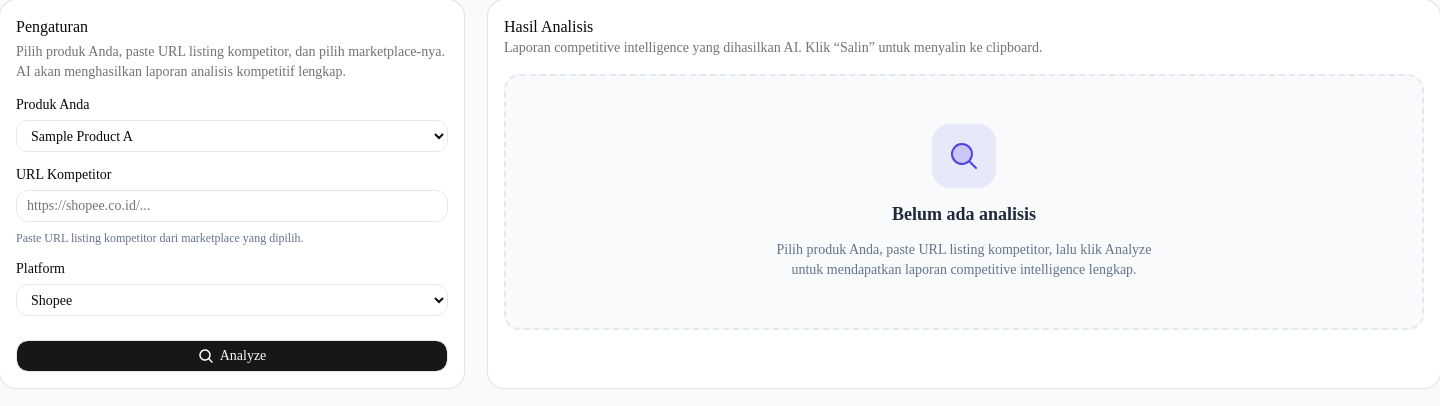
it: CompetitorAnalyzer › shows error message + retry button in the result panel when analyzeCompetitor returns an error
Fill in URL and submit
Type "https://shopee.co.id/broken-link" into the field with test id "competitor-url".
click(232, 206); type("https://shopee.co.id/broken-link")  # box [16,190,448,222]
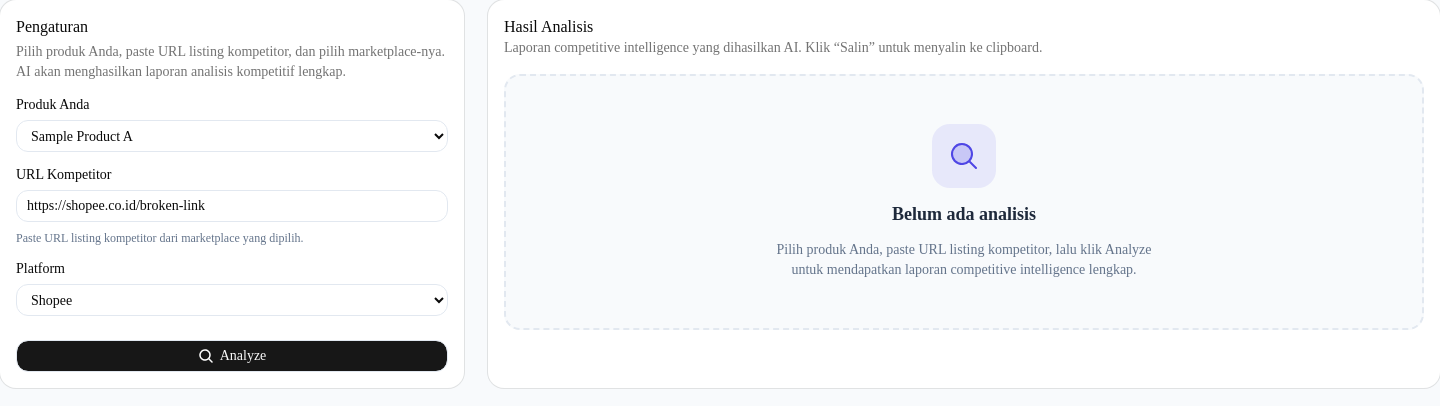
Click the button with test id "competitor-analyze".
click(232, 356)  # box [16,340,448,372]
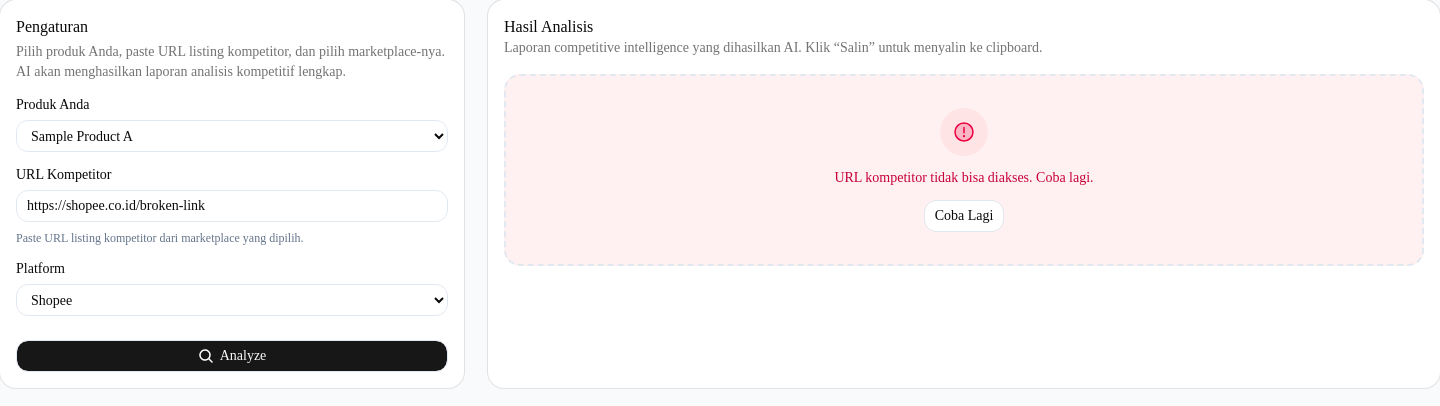
Check: the element with test id "competitor-error" is shown, box [504,74,1424,266]
Check: the text "URL kompetitor tidak bisa diakses. Coba lagi." is shown, box [834,168,1094,188]
Check: the button with test id "competitor-retry" reads "Coba Lagi", box [924,200,1004,232]
